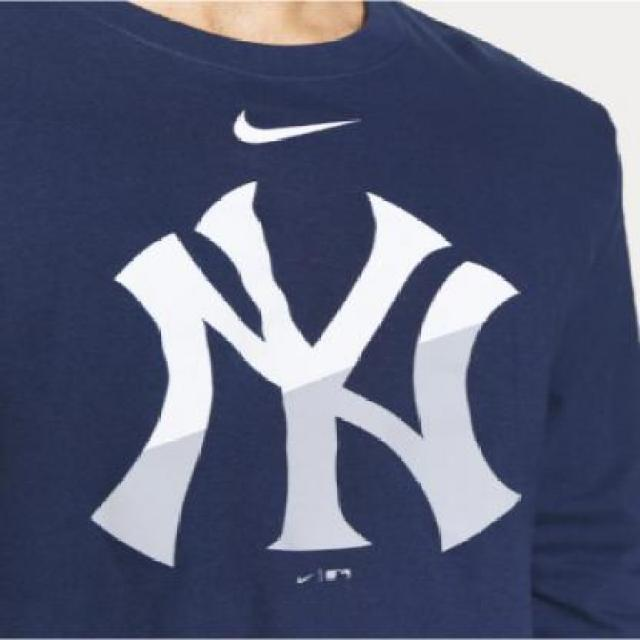Nike: (215, 106, 364, 146), (290, 572, 313, 585)
